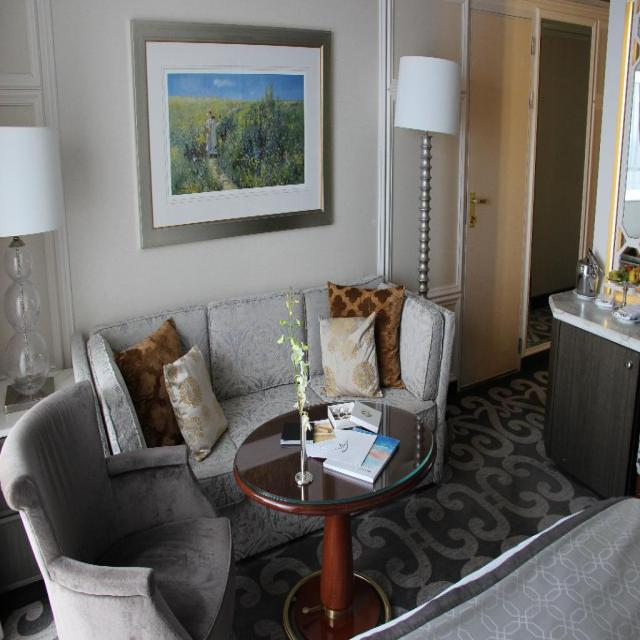desk: (540, 266, 638, 501)
